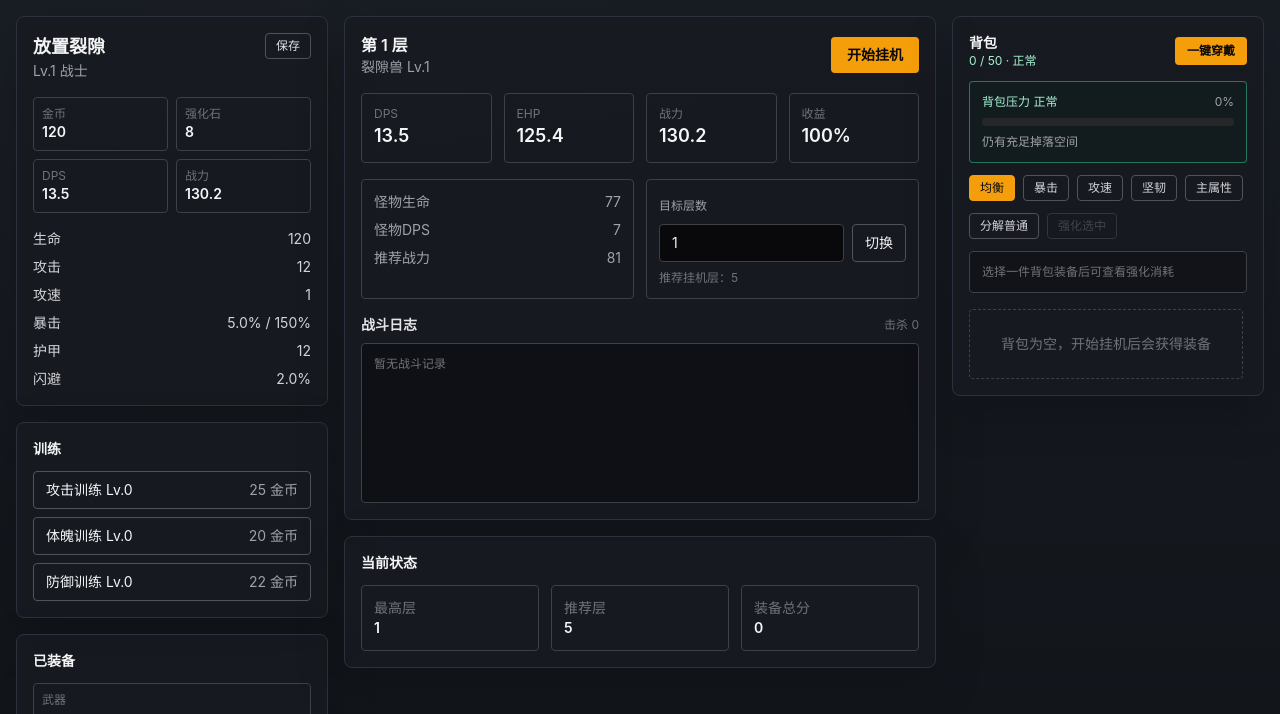
it: UI 冒烟测试 › 训练按钮点击后会消耗金币并显示训练结果
Click the button with test id "train-attack" at (89, 490), box top-left (33, 471), bottom-right (311, 509)
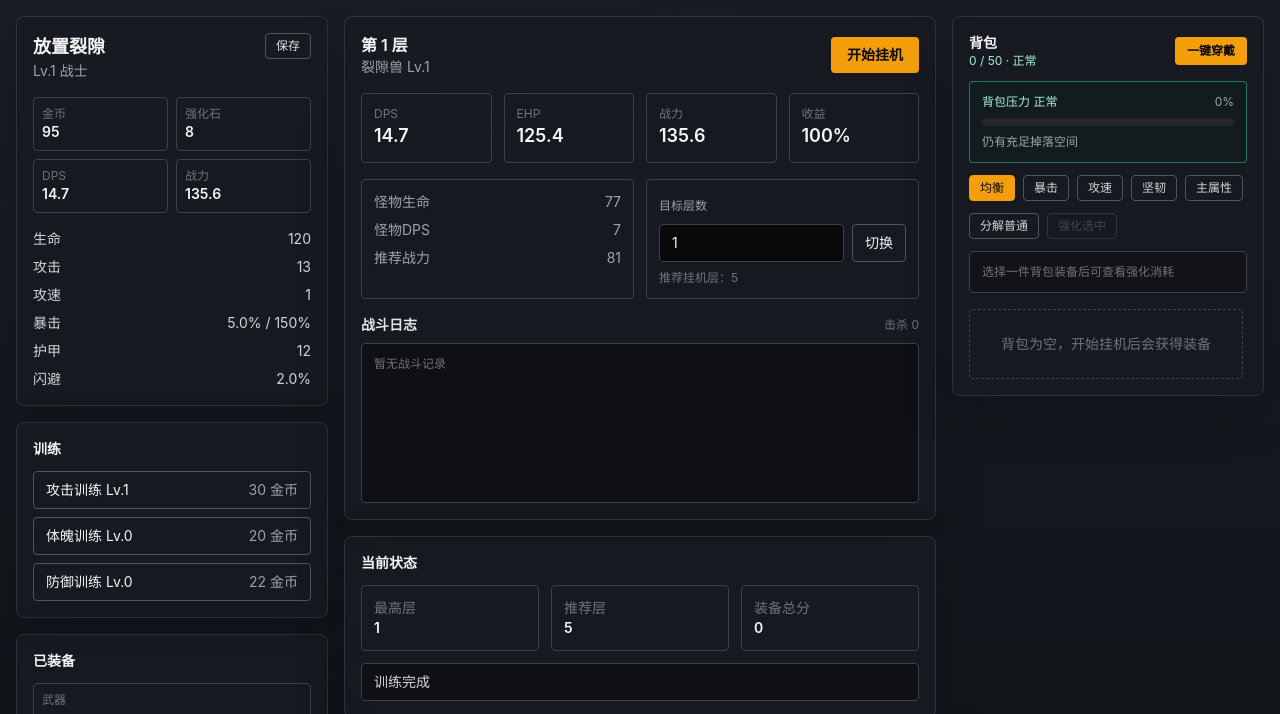
expect the text "训练完成" is shown: met, box top-left (361, 663), bottom-right (919, 701)
